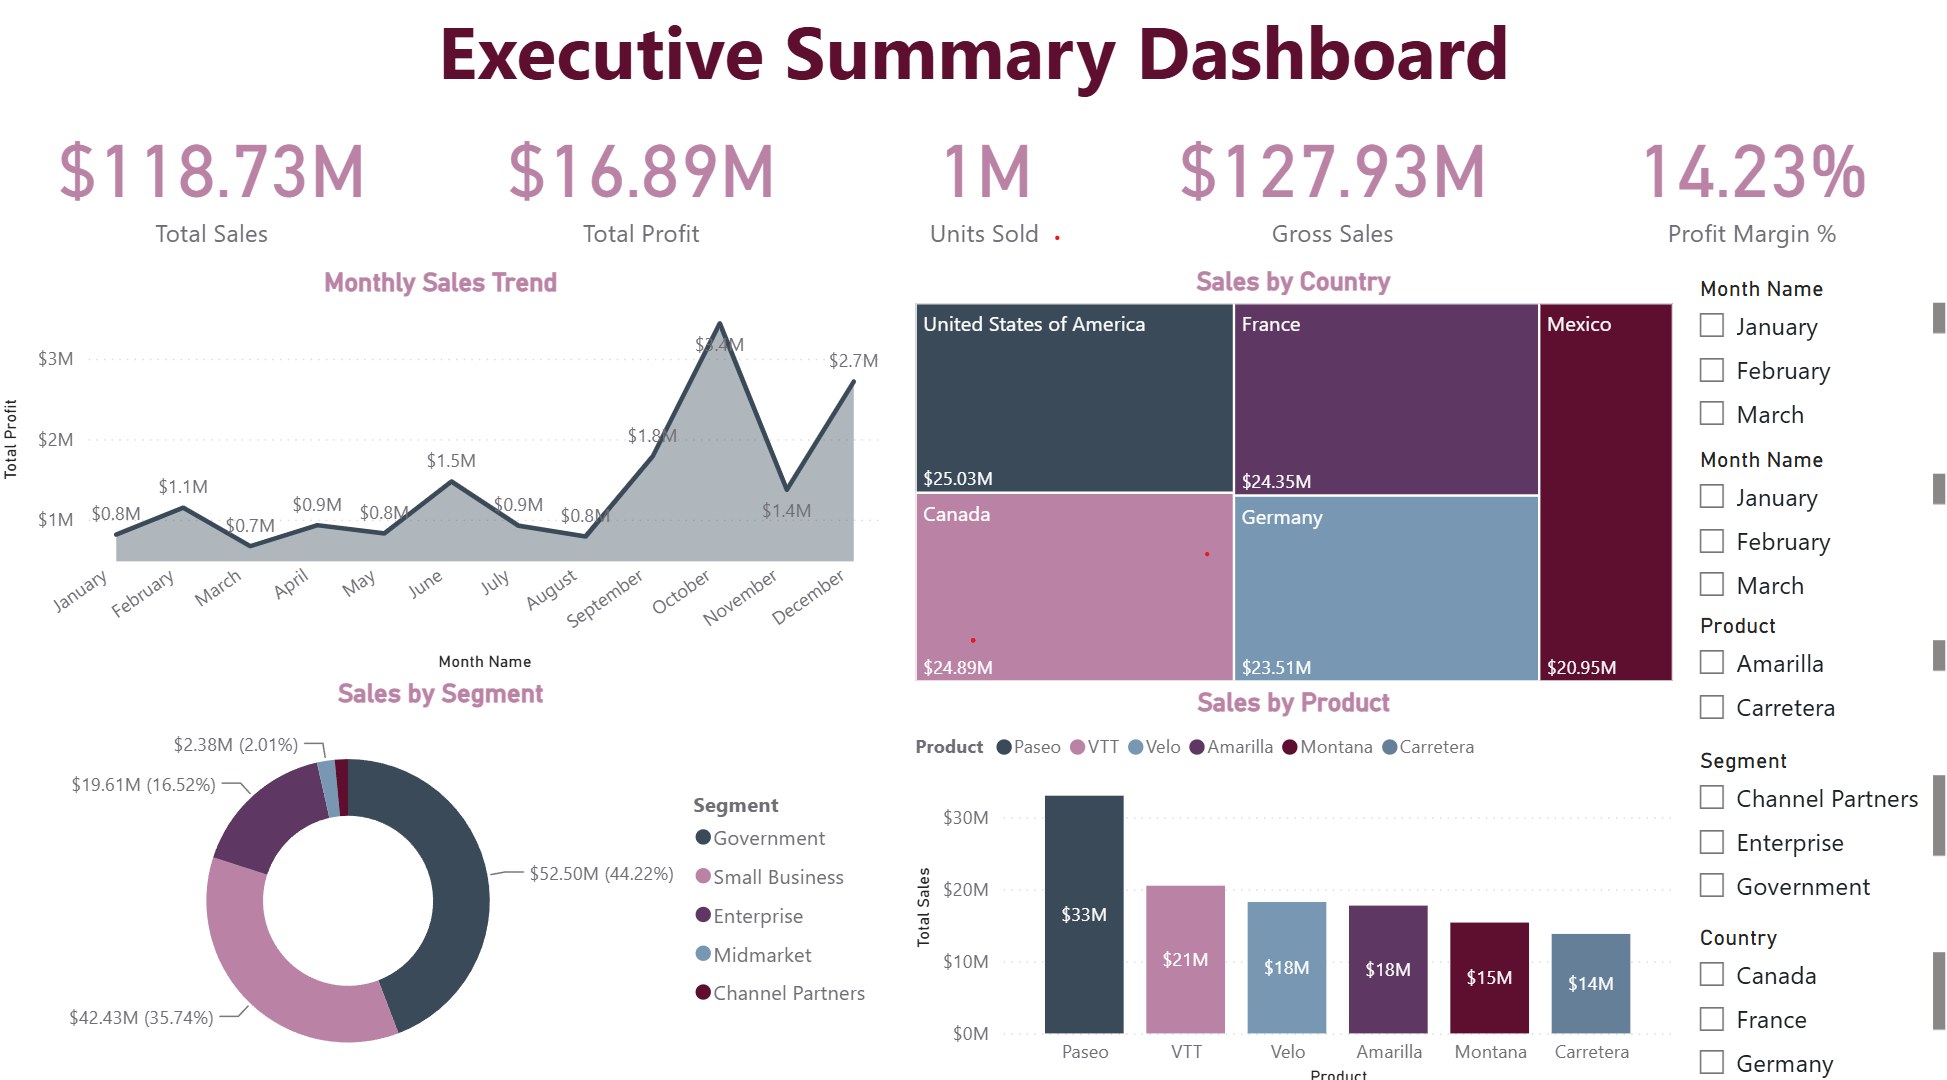

Layout of this report page (visuals, bound fields, positions):
{"tool":"powerbi","page":{"name":"Executive Summary","canvas":[1280,720],"ordinal":0},"visuals":[{"type":"card","fields":{"Values":["Measures (2).Total Sales"]},"box":[0,64.6,283.8,115.2],"z":0},{"type":"card","fields":{"Values":["Measures (2).Total Profit"]},"box":[283.9,64.9,276.9,114.7],"z":1000},{"type":"card","fields":{"Values":["Measures (2).Total Units Sold"]},"box":[560.8,64.9,172.7,114.7],"z":2000},{"type":"card","fields":{"Values":["Measures (2).Gross Sales"]},"box":[733.5,64.9,282.7,114.7],"z":3000},{"type":"card","fields":{"Values":["Measures (2).Profit Margin %"]},"box":[1016.2,64.9,264.2,114.7],"z":4000},{"type":"lineChart","title":"Monthly Sales Trend","fields":{"Category":["Dim_Date.Month Name"],"Y":["Measures (2).Total Profit"]},"box":[0,180,584,268],"z":5000},{"type":"donutChart","title":"Sales by Segment","fields":{"Category":["Dim_Segment.Segment"],"Y":["Measures (2).Total Sales"]},"box":[0,448.4,584,271.1],"z":6000},{"type":"columnChart","title":"Sales by Product","fields":{"Category":["Dim_Product.Product"],"Series":["Dim_Product.Product"],"Y":["Measures (2).Total Sales"]},"box":[597,455,505,265],"z":7000},{"type":"treemap","title":"Sales by Country","fields":{"Group":["Dim_Country.Country"],"Values":["Measures (2).Total Sales"]},"box":[596.9,179.3,504.7,276.4],"z":8000},{"type":"textbox","box":[0,0,1280.8,76.8],"z":9000},{"type":"slicer","fields":{"Values":["Dim_Date.Month Name"]},"box":[1102,292,178,109],"z":10000},{"type":"slicer","fields":{"Values":["Dim_Country.Country"]},"box":[1101.6,604.7,178.4,114.7],"z":11000},{"type":"slicer","fields":{"Values":["Dim_Product.Product"]},"box":[1101.6,400.8,178.4,88.2],"z":12000},{"type":"slicer","fields":{"Values":["Dim_Segment.Segment"]},"box":[1101.6,489,178.4,115.9],"z":13000},{"type":"slicer","fields":{"Values":["Dim_Date.Month Name"]},"box":[1102,180,178.4,111.7],"z":14000}]}

Visuals, with their boxes in screenshot pixels (x1, y1, x2, y2), scaled from the page's 1280x720 canvas onto the 1947x1080 screenshot:
card - Measures (2).Total Sales: [left=0, top=97, right=432, bottom=270]
card - Measures (2).Total Profit: [left=432, top=97, right=853, bottom=269]
card - Measures (2).Total Units Sold: [left=853, top=97, right=1116, bottom=269]
card - Measures (2).Gross Sales: [left=1116, top=97, right=1546, bottom=269]
card - Measures (2).Profit Margin %: [left=1546, top=97, right=1946, bottom=269]
"Monthly Sales Trend" lineChart: [left=0, top=270, right=888, bottom=672]
"Sales by Segment" donutChart: [left=0, top=673, right=888, bottom=1079]
"Sales by Product" columnChart: [left=908, top=682, right=1676, bottom=1079]
"Sales by Country" treemap: [left=908, top=269, right=1676, bottom=684]
textbox: [left=0, top=0, right=1946, bottom=115]
slicer - Dim_Date.Month Name: [left=1676, top=438, right=1946, bottom=602]
slicer - Dim_Country.Country: [left=1676, top=907, right=1946, bottom=1079]
slicer - Dim_Product.Product: [left=1676, top=601, right=1946, bottom=734]
slicer - Dim_Segment.Segment: [left=1676, top=734, right=1946, bottom=907]
slicer - Dim_Date.Month Name: [left=1676, top=270, right=1946, bottom=438]
